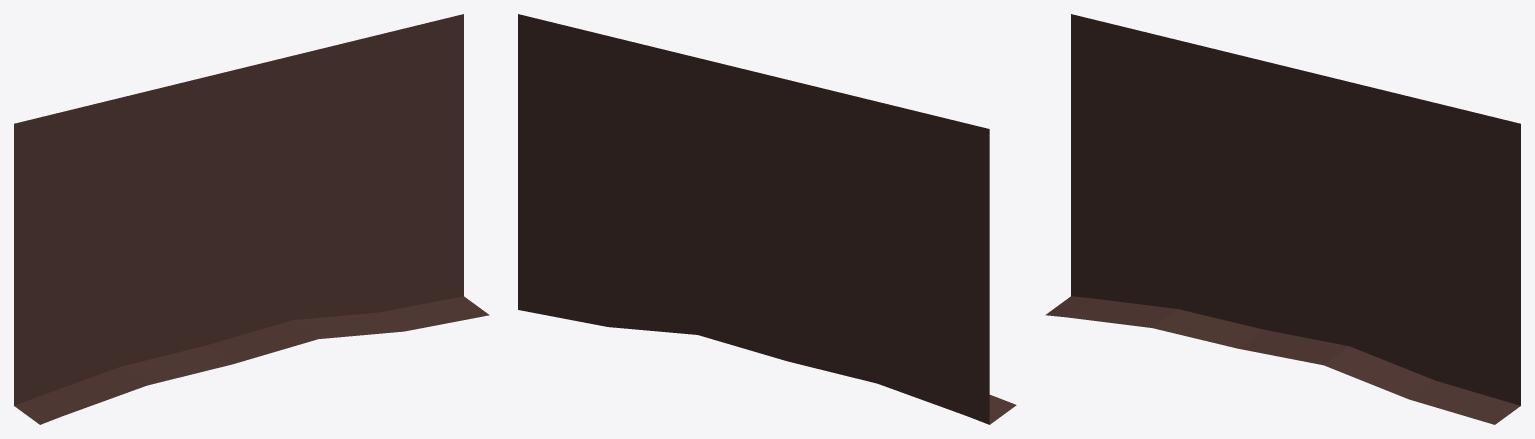
Rendered from Roof_1.fbx.
3 views of the same model, side by side, from view 1: azimuth 30°, elevation 25°; view 2: azimuth 150°, elevation 25°; view 3: azimuth 330°, elevation 25° (orthographic). The views are drawn at different scales.
Parts seen in each view (by area): view 1: Roof_1; view 2: Roof_1; view 3: Roof_1.
Boxes of the visible parts, <box> form: Roof_1: <box>14,14,489,424</box>; Roof_1: <box>518,14,1016,424</box>; Roof_1: <box>1045,14,1520,424</box>.
Size of the model in its own units: 2000 by 1199 by 200.
1 material, 1 textured.
